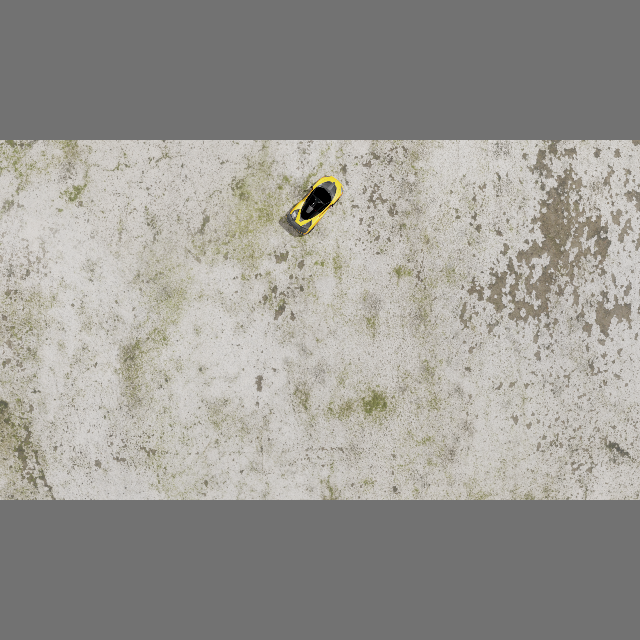car: (282, 167, 350, 240)
